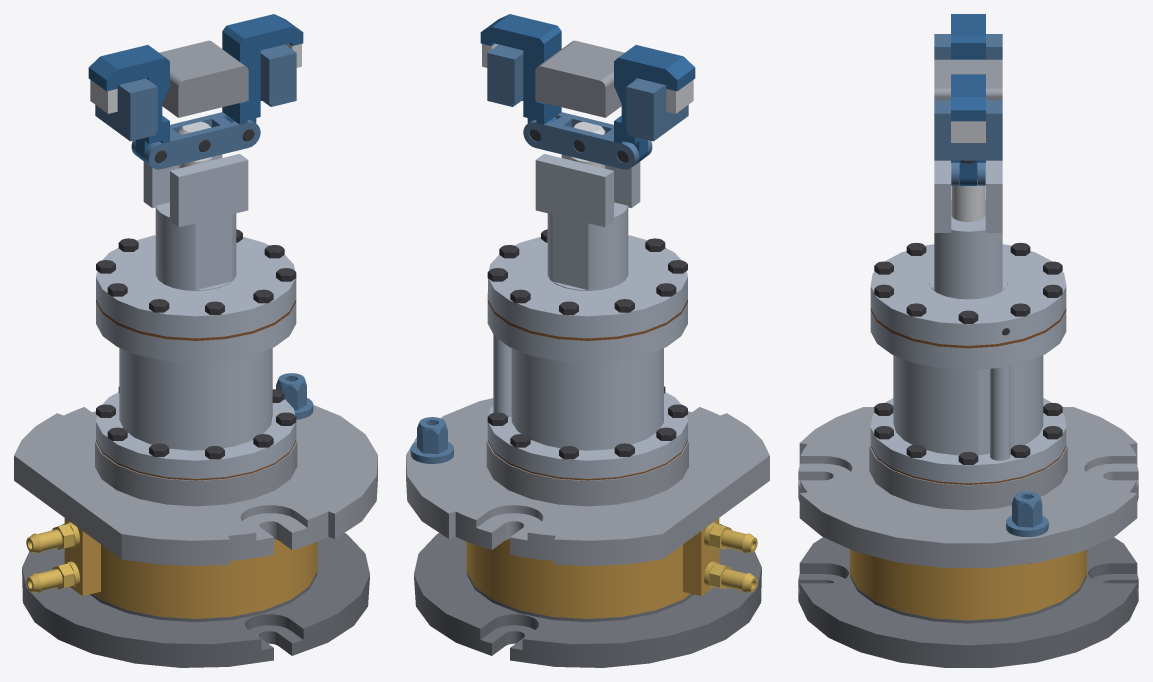
The model's file is stroke_30.glb.
3 views of the same model, side by side, from view 1: azimuth 30°, elevation 25°; view 2: azimuth 150°, elevation 25°; view 3: azimuth 270°, elevation 25° (orthographic). The views are drawn at different scales.
Visible parts, largest first — view 1: korpus_15, gilza_18, kryshka_11, plita, vtulka_16, kolodka, rychag_5_R, rychag_5_L, traversa_10, korpus_fiks_R, korpus_fiks_L, skoba_8_L (+5 smaller); view 2: korpus_15, gilza_18, kryshka_11, plita, vtulka_16, kolodka, rychag_5_R, rychag_5_L, traversa_10, korpus_fiks_R, palec_24, korpus_fiks_L (+6 smaller); view 3: korpus_15, plita, gilza_18, kryshka_11, vtulka_16, skoba_8_R, rychag_5_R, kolodka, trubka_13, rychag_5_L, palec_24, shtok_2 (+3 smaller).
Part boxes in pixels (box(x1,y1,x2,y2)): korpus_15: box(14, 405, 377, 565); gilza_18: box(96, 302, 296, 478); kryshka_11: box(96, 154, 296, 338); plita: box(22, 523, 369, 667); vtulka_16: box(64, 518, 317, 618); kolodka: box(159, 40, 248, 117); rychag_5_R: box(222, 14, 303, 124); rychag_5_L: box(88, 45, 169, 163); traversa_10: box(131, 112, 260, 169); korpus_fiks_R: box(260, 45, 293, 104); korpus_fiks_L: box(122, 78, 157, 137); skoba_8_L: box(95, 84, 155, 141); korpus_15: box(406, 398, 769, 565); gilza_18: box(487, 302, 687, 478); kryshka_11: box(487, 154, 687, 338); plita: box(414, 523, 761, 667); vtulka_16: box(466, 518, 719, 618); kolodka: box(535, 40, 624, 117); rychag_5_R: box(480, 14, 561, 124); rychag_5_L: box(614, 45, 695, 163); traversa_10: box(523, 112, 652, 169); korpus_fiks_R: box(490, 45, 523, 104); palec_24: box(410, 417, 453, 463); korpus_fiks_L: box(626, 78, 661, 137); korpus_15: box(798, 407, 1138, 567); plita: box(798, 537, 1138, 667); gilza_18: box(870, 311, 1066, 483); kryshka_11: box(870, 160, 1066, 345); vtulka_16: box(850, 549, 1086, 620); skoba_8_R: box(934, 112, 1002, 160); rychag_5_R: box(951, 74, 985, 185); kolodka: box(934, 59, 1002, 100); trubka_13: box(990, 365, 1010, 460); rychag_5_L: box(951, 14, 985, 59); palec_24: box(1006, 491, 1048, 563); shtok_2: box(951, 179, 985, 221).
Bounding box in the file's own units: 214 × 350 × 200.
